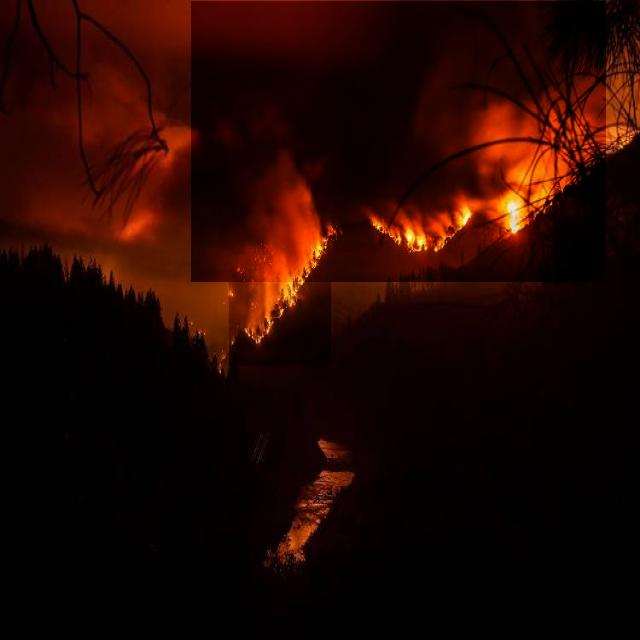Fire: (360, 185, 562, 269), (229, 216, 331, 366)
Smoke: (191, 1, 606, 282)
